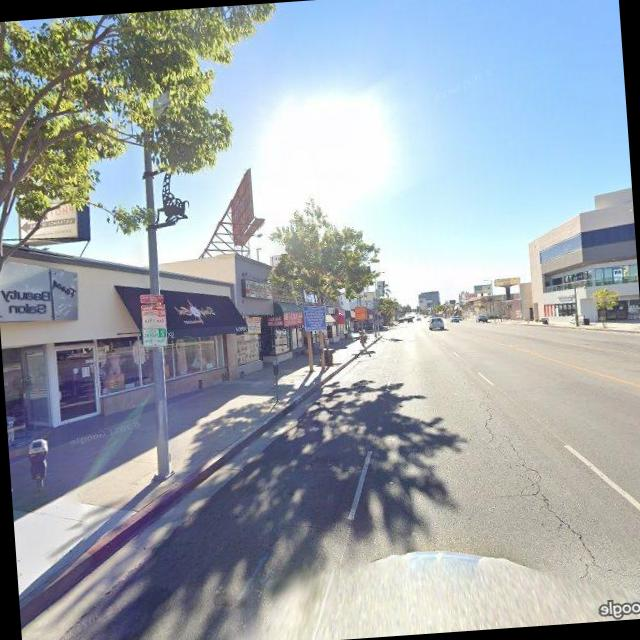pothole: (476, 368, 614, 594)
